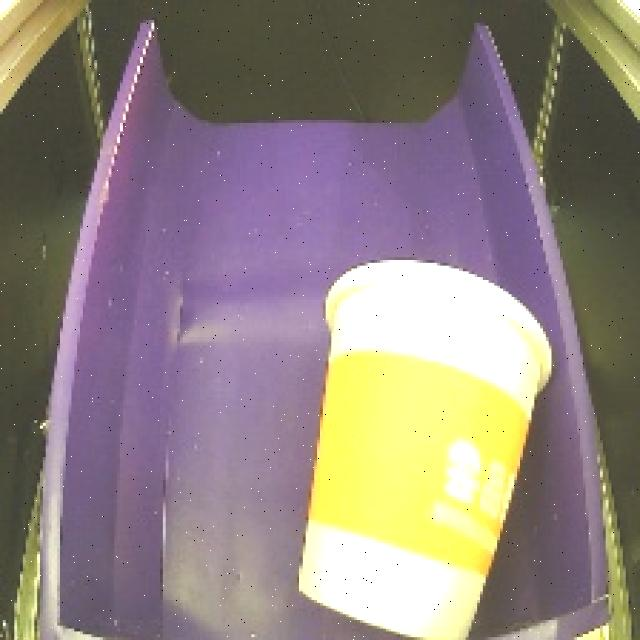cups: (284, 253, 564, 640)
